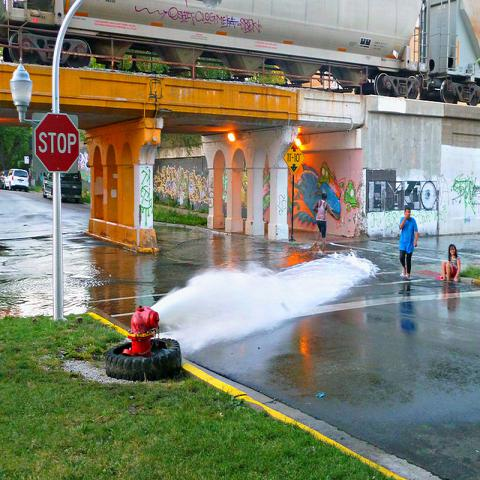car: (0, 170, 10, 190)
truck: (41, 170, 82, 202), (3, 169, 29, 193)
